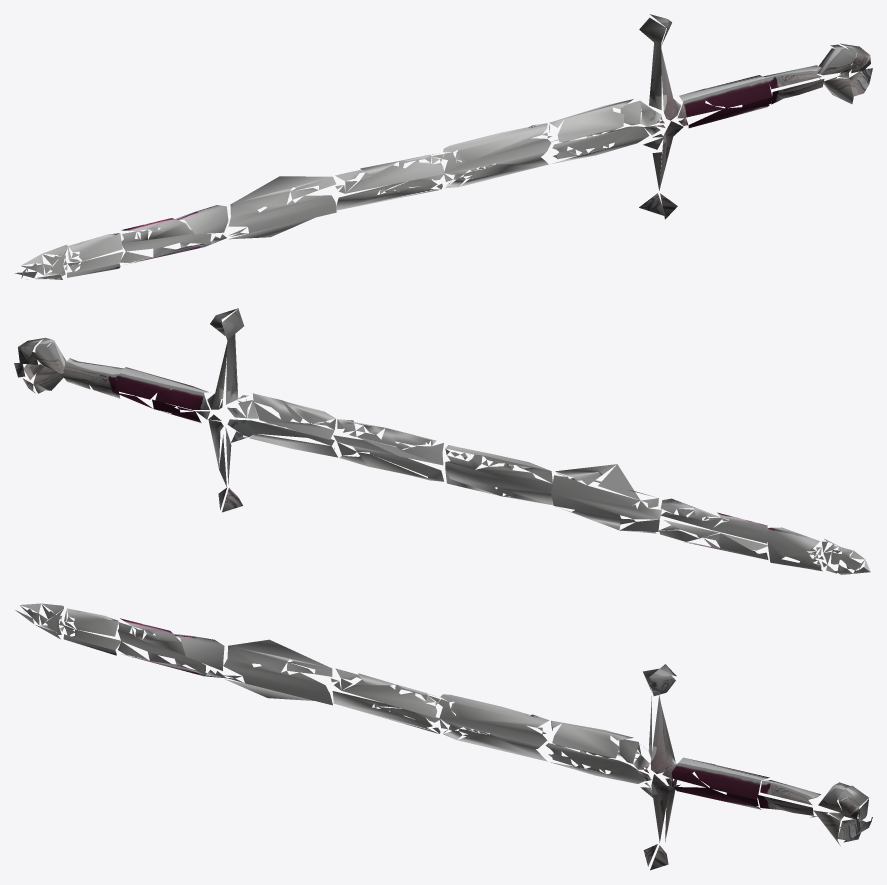
Rendered from medieval-sword-combat.glb.
The picture shows the model from 3 angles, top to bottom: view 1: azimuth 30°, elevation 25°; view 2: azimuth 150°, elevation 25°; view 3: azimuth 330°, elevation 25°; orthographic projection.
Visible parts, largest first — view 1: tripo_node_79d6a9b4-fe5b-4851-a4e6-fd036c5b2217; view 2: tripo_node_79d6a9b4-fe5b-4851-a4e6-fd036c5b2217; view 3: tripo_node_79d6a9b4-fe5b-4851-a4e6-fd036c5b2217.
Boxes of the visible parts, x1=… form: tripo_node_79d6a9b4-fe5b-4851-a4e6-fd036c5b2217: x1=15, y1=14, x2=872, y2=279; tripo_node_79d6a9b4-fe5b-4851-a4e6-fd036c5b2217: x1=14, y1=308, x2=870, y2=574; tripo_node_79d6a9b4-fe5b-4851-a4e6-fd036c5b2217: x1=15, y1=603, x2=872, y2=870.
Size of the model in its own units: 0.9963 by 0.216 by 0.0376.
Materials: 1 (1 with a texture image).
